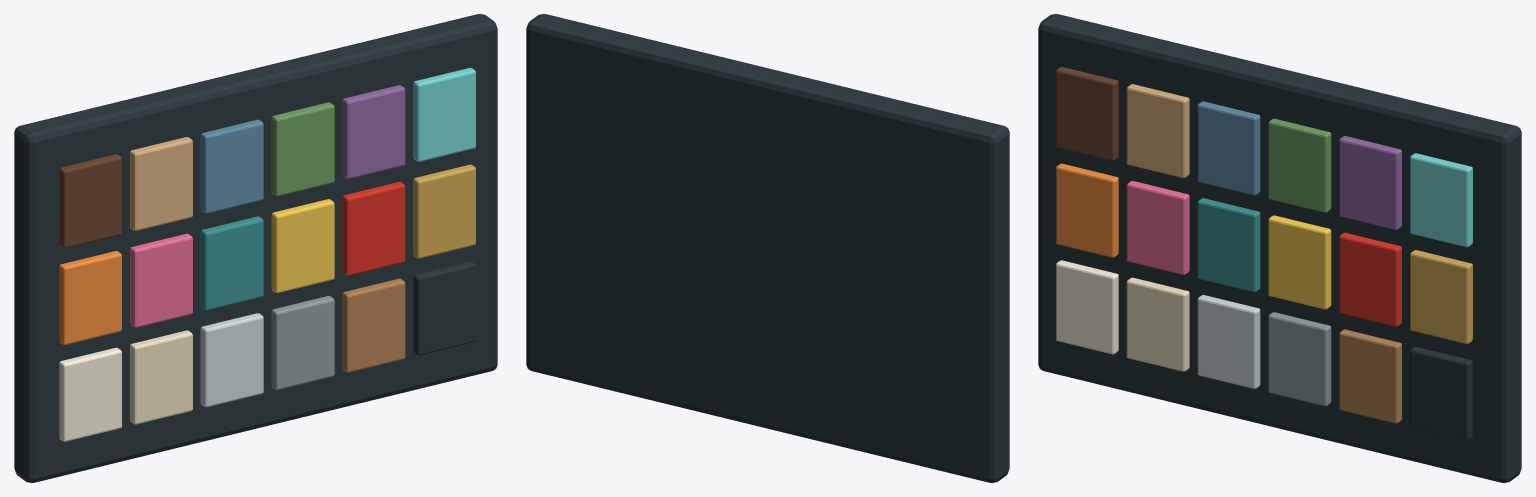
File: P075_color_checker.glb
3 views of the same model, side by side, from view 1: azimuth 30°, elevation 25°; view 2: azimuth 150°, elevation 25°; view 3: azimuth 330°, elevation 25° (orthographic).
Visible parts, largest first — view 1: P075_board_001, P075_swatch_005, P075_swatch_010, P075_swatch_004, P075_swatch_016, P075_swatch_011, P075_swatch_017, P075_swatch_006, P075_swatch_018, P075_swatch_012, P075_swatch_013, P075_swatch_014 (+7 smaller); view 2: P075_board_001; view 3: P075_board_001, P075_swatch_004, P075_swatch_010, P075_swatch_011, P075_swatch_005, P075_swatch_015, P075_swatch_016, P075_swatch_017, P075_swatch_003, P075_swatch_009, P075_swatch_007, P075_swatch_008 (+7 smaller).
Boxes of the visible parts, left/top/right/bottom form: P075_board_001: left=14, top=14, right=497, bottom=482; P075_swatch_005: left=271, top=102, right=334, bottom=196; P075_swatch_010: left=200, top=216, right=263, bottom=310; P075_swatch_004: left=200, top=119, right=263, bottom=213; P075_swatch_016: left=200, top=313, right=263, bottom=407; P075_swatch_011: left=271, top=199, right=334, bottom=293; P075_swatch_017: left=271, top=296, right=334, bottom=389; P075_swatch_006: left=342, top=85, right=405, bottom=179; P075_swatch_018: left=342, top=278, right=405, bottom=372; P075_swatch_012: left=342, top=182, right=405, bottom=275; P075_swatch_013: left=413, top=164, right=475, bottom=258; P075_swatch_014: left=59, top=347, right=121, bottom=441; P075_board_001: left=526, top=14, right=1009, bottom=482; P075_board_001: left=1038, top=14, right=1521, bottom=482; P075_swatch_004: left=1197, top=101, right=1260, bottom=195; P075_swatch_010: left=1197, top=198, right=1260, bottom=292; P075_swatch_011: left=1268, top=215, right=1331, bottom=309; P075_swatch_005: left=1268, top=118, right=1331, bottom=212; P075_swatch_015: left=1126, top=277, right=1189, bottom=371; P075_swatch_016: left=1197, top=295, right=1260, bottom=388; P075_swatch_017: left=1268, top=312, right=1331, bottom=406; P075_swatch_003: left=1126, top=84, right=1189, bottom=178; P075_swatch_009: left=1126, top=181, right=1189, bottom=274; P075_swatch_007: left=1410, top=153, right=1472, bottom=247; P075_swatch_008: left=1056, top=163, right=1118, bottom=257.
Size of the model in its own units: 0.24 by 0.17 by 0.022.
